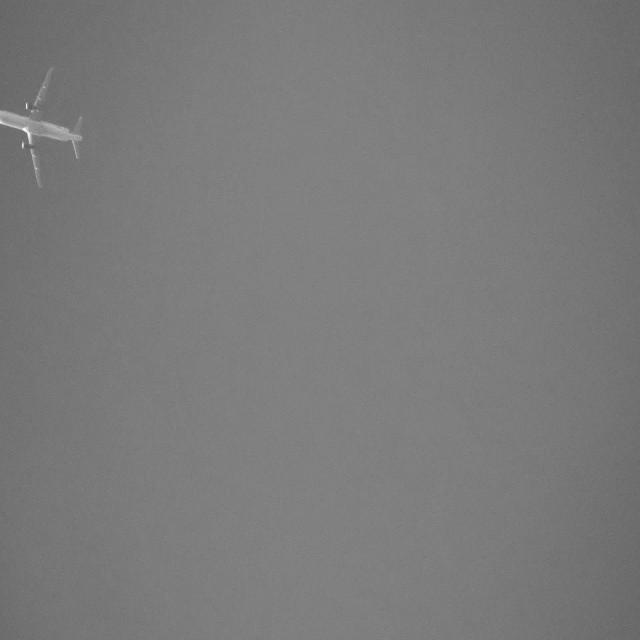aeroplane: (0, 56, 90, 192)
